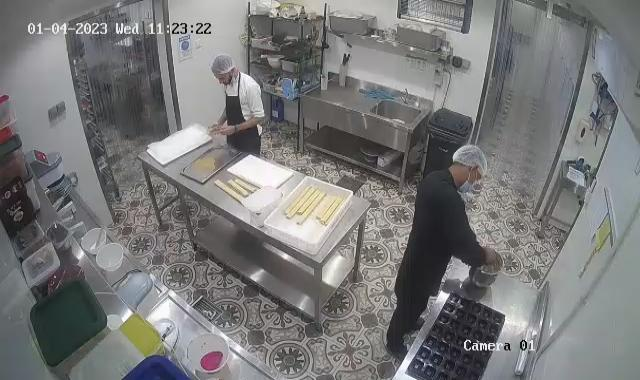hairnet: (452, 144, 489, 176), (211, 54, 238, 80)
